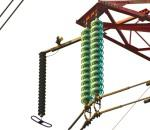isolator: (80, 18, 106, 106)
